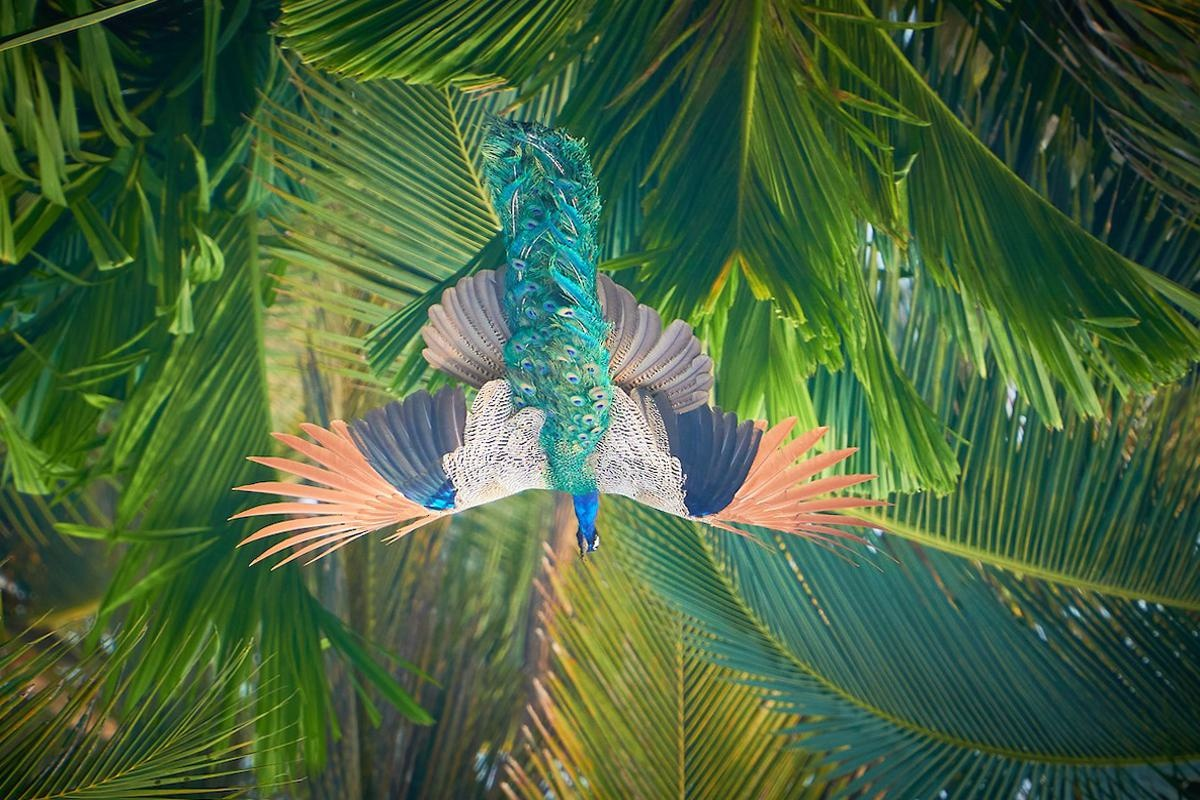peacock: (300, 104, 889, 578)
